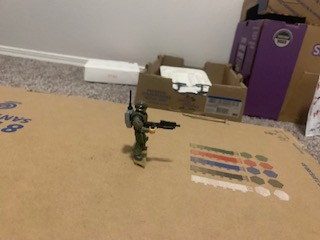soldier: (121, 86, 181, 170)
